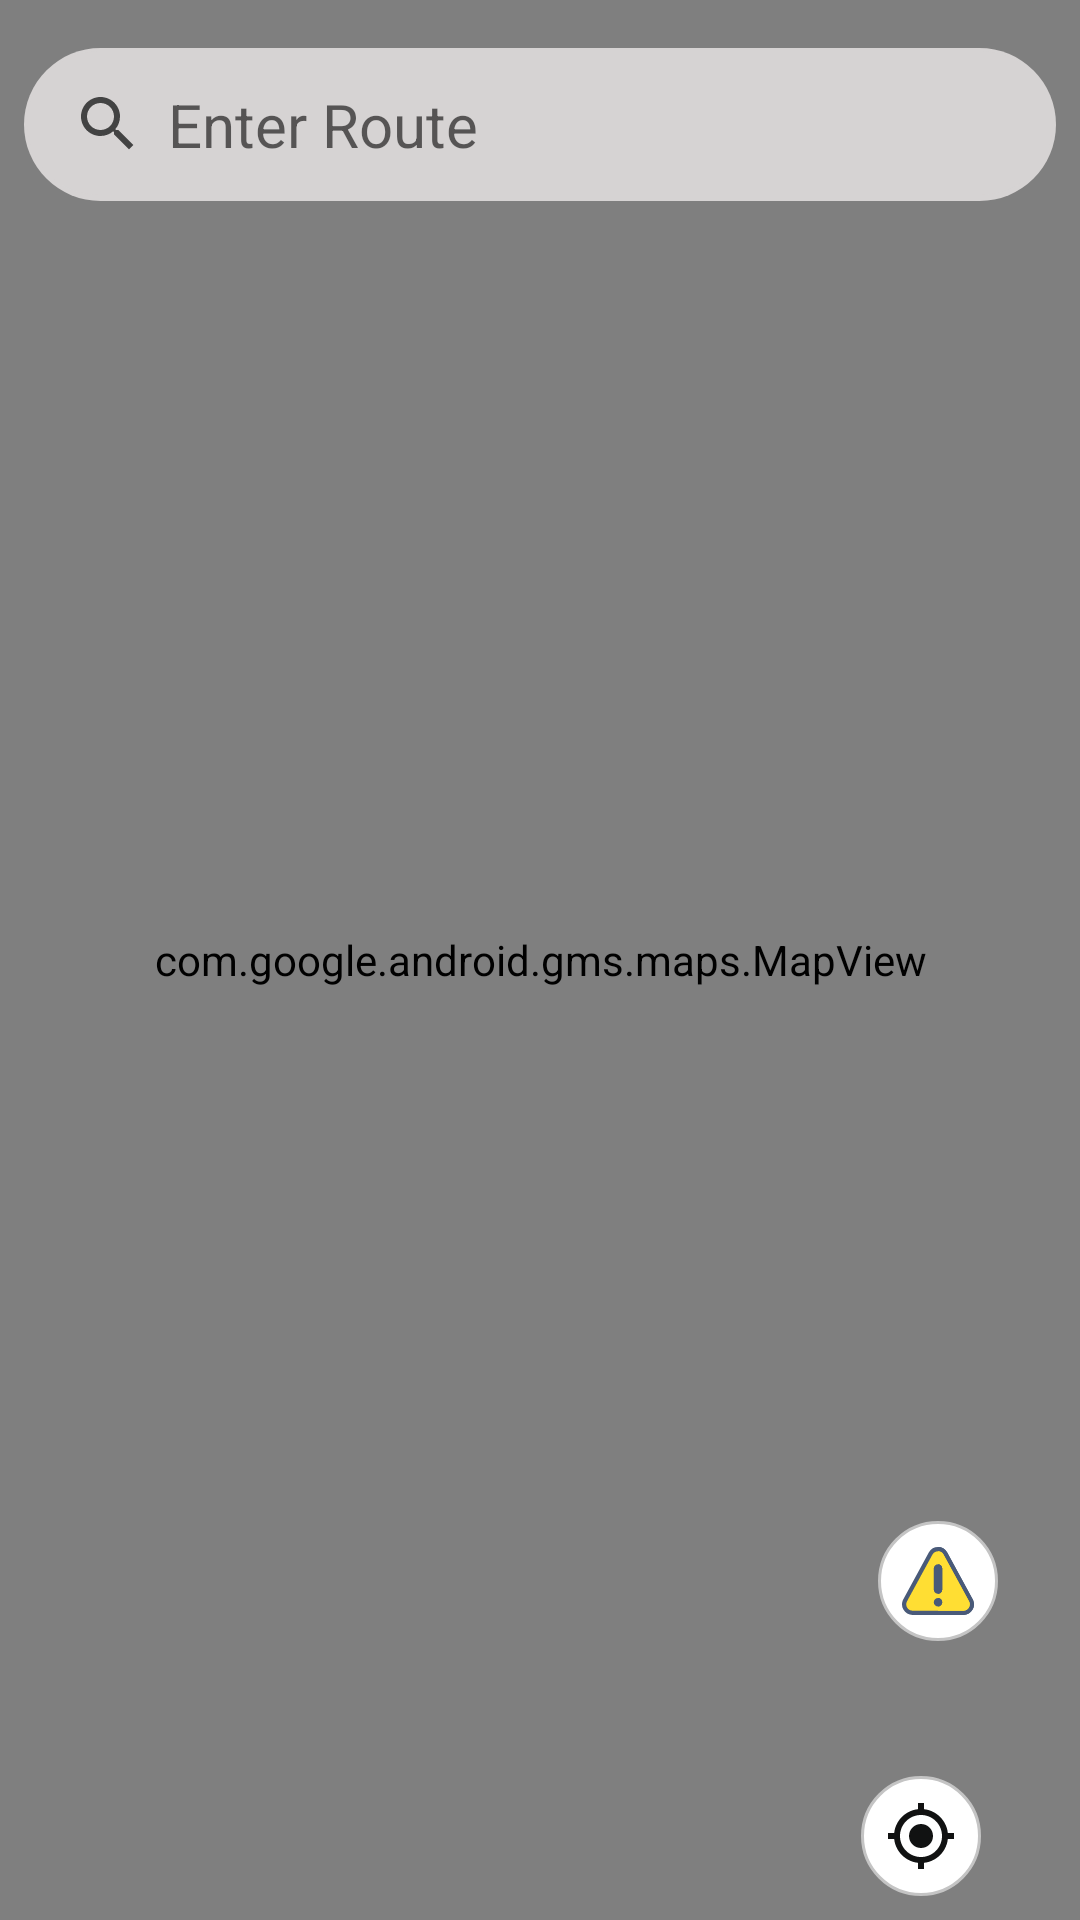

Screen size 1080*1920. Icon name, then its center in pixels as [x,y]:
current location: [921,1836]
report: [938,1581]
